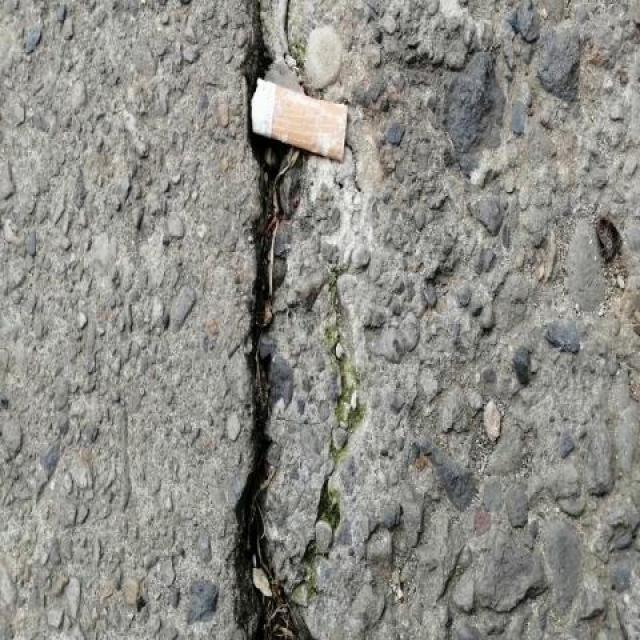non-organic waste: (242, 76, 353, 168)
